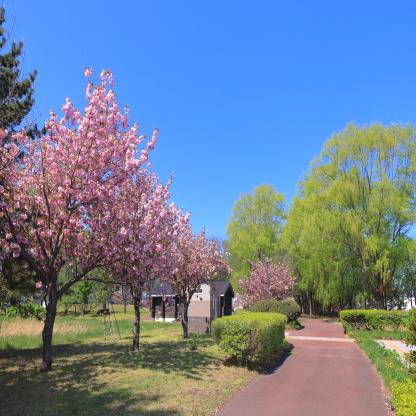YaeSakura: (0, 58, 159, 305), (113, 162, 194, 294), (172, 227, 232, 306), (240, 257, 297, 307), (228, 288, 244, 312)
